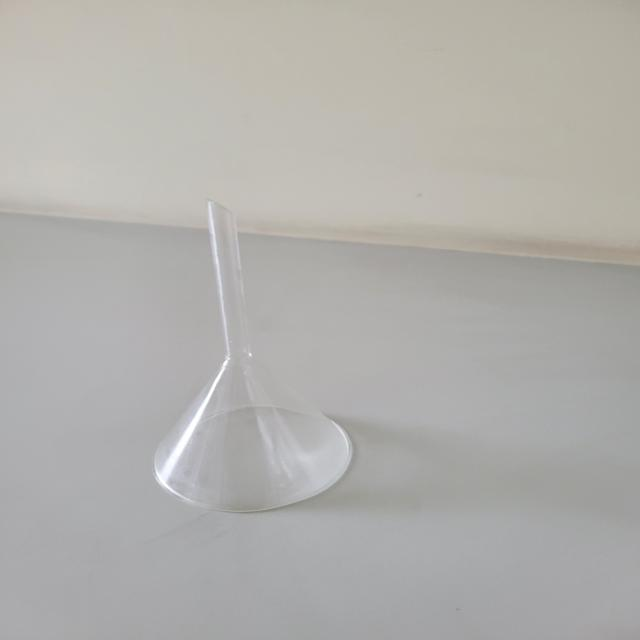Funnel: (91, 172, 384, 538)
